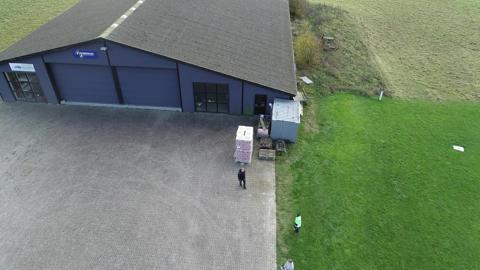RockwoolPallet: (234, 122, 253, 159)
